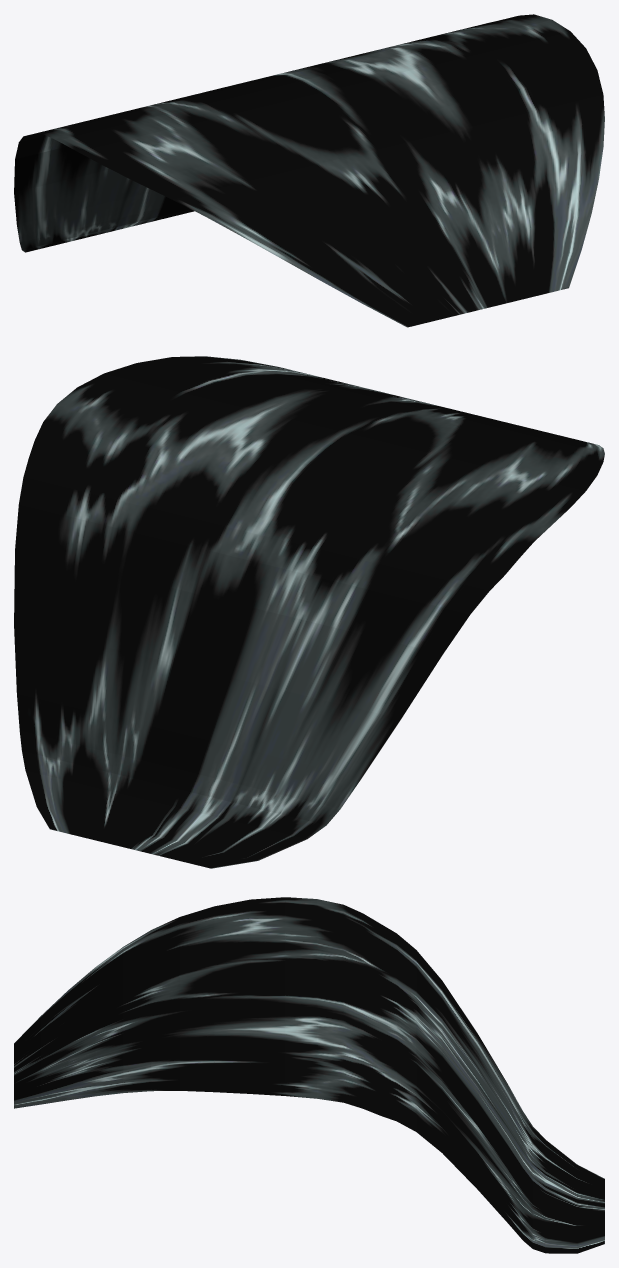
Rendered from 0150_Shui.glb.
The picture shows the model from 3 angles, top to bottom: view 1: azimuth 30°, elevation 25°; view 2: azimuth 150°, elevation 25°; view 3: azimuth 270°, elevation 25°; orthographic projection. The views are drawn at different scales.
Bounding box in the file's own units: 1.76 × 0.8823 × 2.2.
1 material, 1 textured.
